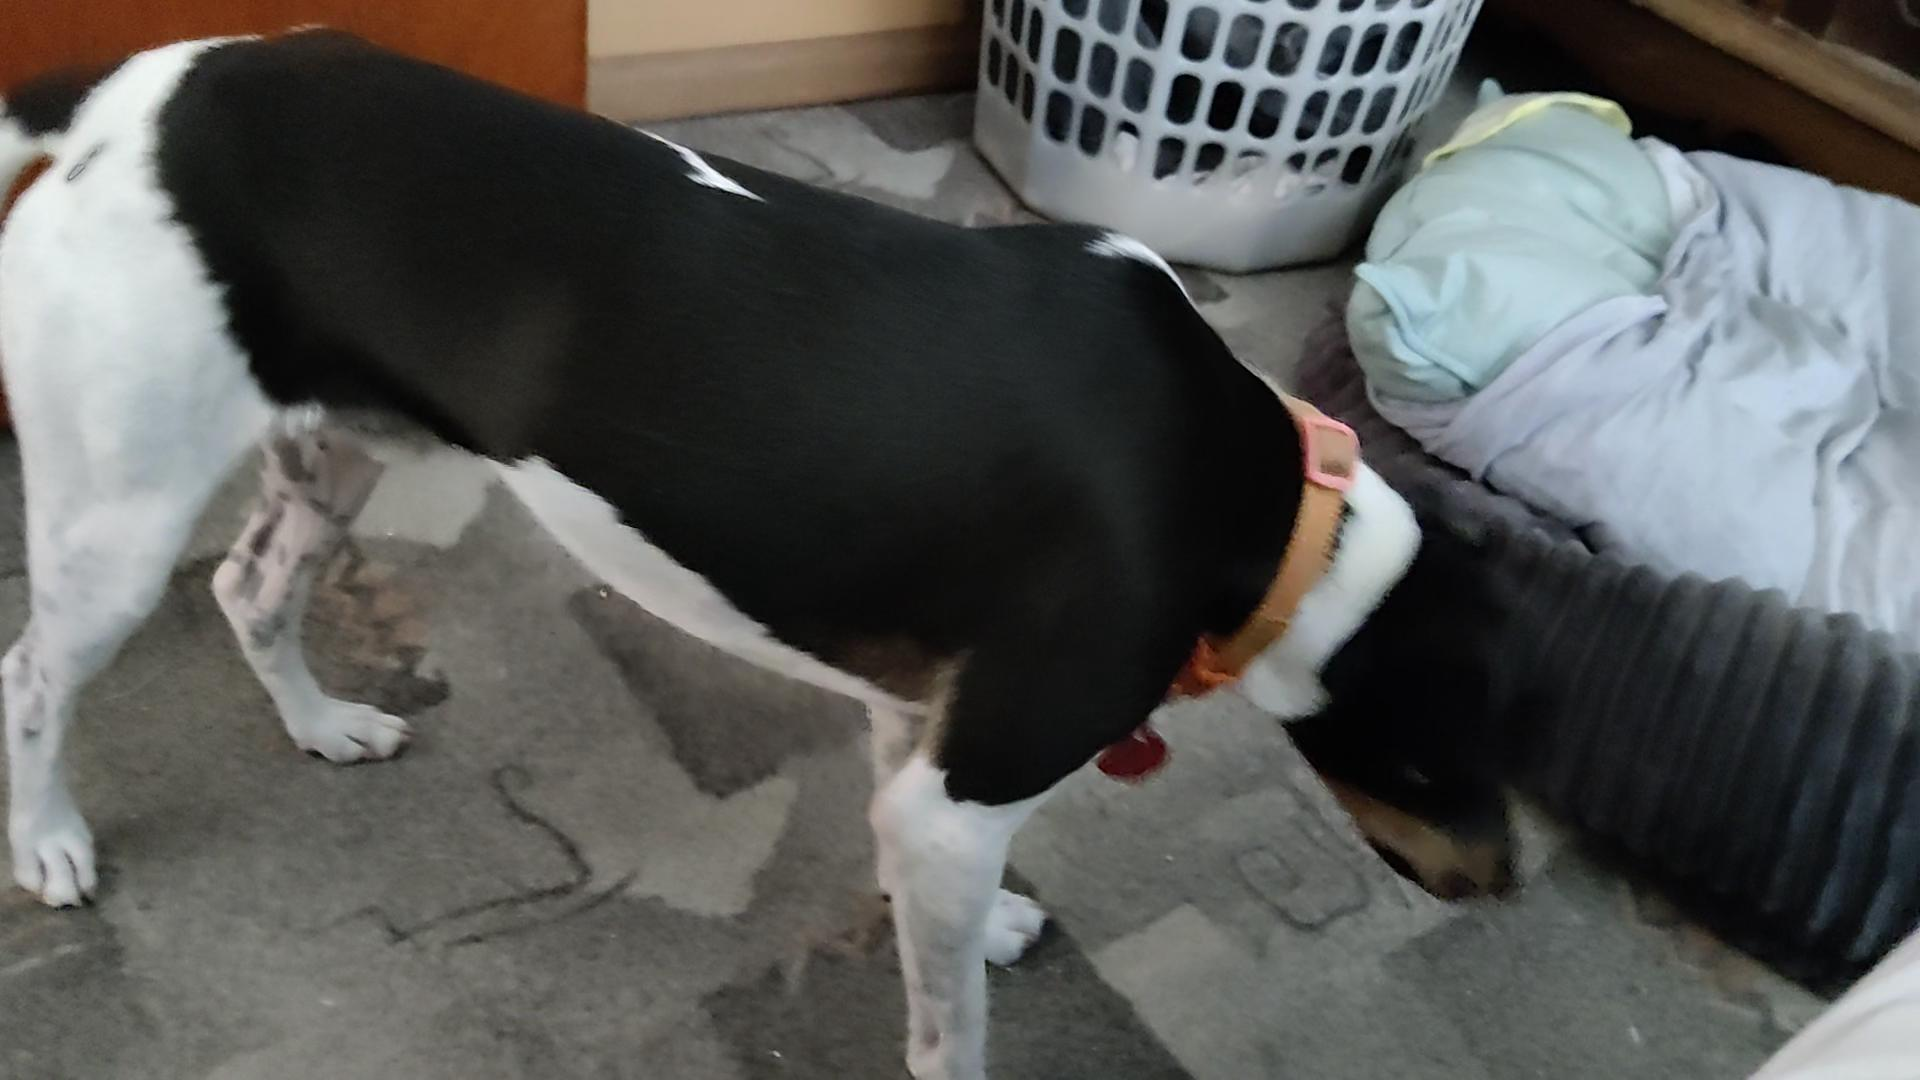Dog: (0, 11, 1567, 1079)
